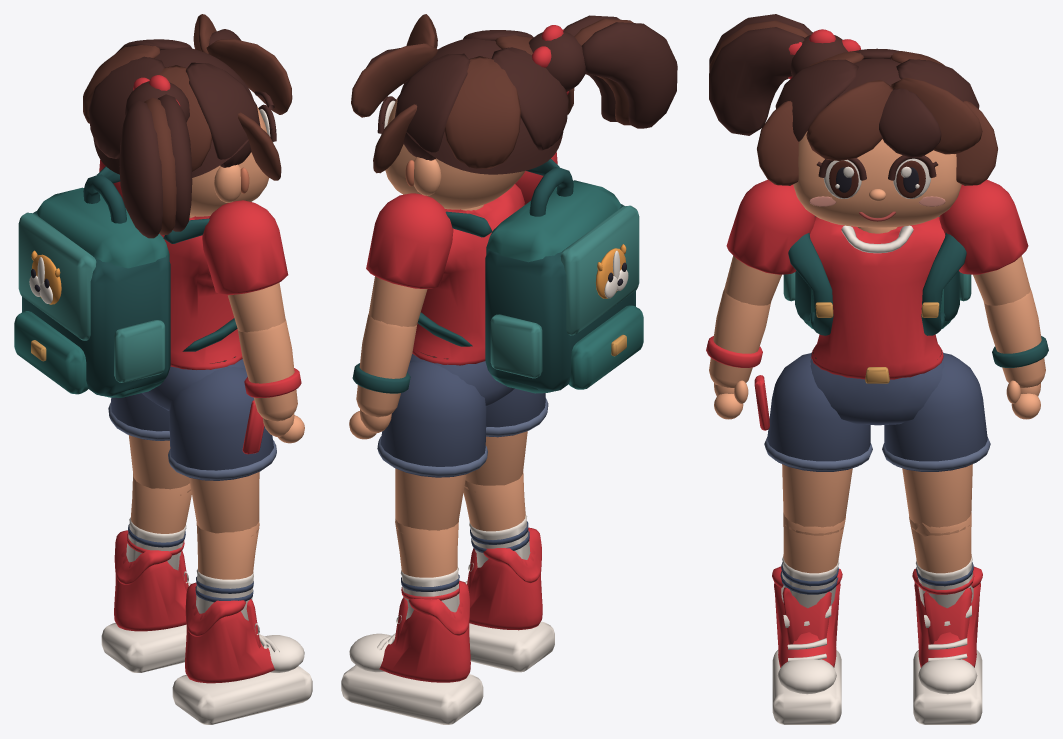
3 views of the same model, side by side, from view 1: azimuth 30°, elevation 25°; view 2: azimuth 150°, elevation 25°; view 3: azimuth 270°, elevation 25° (orthographic). The views are drawn at different scales.
Visible parts, largest first — view 1: head.pal_hairChestnut, head.pal_hairWarm, backpackSocket.pal_tealDark, backpackSocket.pal_backpackTeal, backpackSocket.pal_tealLight, legR.pal_denim, torso.pal_survivorRed, footR.pal_picketWhite, armR.pal_survivorRed, footR.pal_survivorRed, footL.pal_survivorRed, foreArmR.pal_skinWarm (+20 smaller); view 2: head.pal_hairChestnut, head.pal_hairWarm, backpackSocket.pal_tealDark, backpackSocket.pal_backpackTeal, backpackSocket.pal_tealLight, legL.pal_denim, torso.pal_survivorRed, armL.pal_survivorRed, footL.pal_picketWhite, footL.pal_survivorRed, footR.pal_survivorRed, head.pal_skinWarm (+21 smaller); view 3: head.pal_hairChestnut, torso.pal_survivorRed, head.pal_hairWarm, head.pal_skinWarm, legL.pal_denim, legR.pal_denim, armR.pal_survivorRed, armL.pal_survivorRed, footL.pal_picketWhite, footR.pal_picketWhite, hip.pal_denim, torso.pal_tealDark (+28 smaller).
Boxes of the visible parts, x1=… form: head.pal_hairChestnut: x1=88, y1=29, x2=276, y2=238; head.pal_hairWarm: x1=83, y1=14, x2=292, y2=234; backpackSocket.pal_tealDark: x1=22, y1=174, x2=170, y2=396; backpackSocket.pal_backpackTeal: x1=14, y1=187, x2=169, y2=397; backpackSocket.pal_tealLight: x1=18, y1=212, x2=165, y2=382; legR.pal_denim: x1=169, y1=366, x2=273, y2=480; torso.pal_survivorRed: x1=159, y1=216, x2=242, y2=369; footR.pal_picketWhite: x1=172, y1=623, x2=312, y2=724; armR.pal_survivorRed: x1=202, y1=200, x2=288, y2=295; footR.pal_survivorRed: x1=185, y1=582, x2=274, y2=683; footL.pal_survivorRed: x1=114, y1=530, x2=188, y2=631; foreArmR.pal_skinWarm: x1=238, y1=319, x2=297, y2=421; head.pal_hairChestnut: x1=366, y1=15, x2=677, y2=174; head.pal_hairWarm: x1=351, y1=14, x2=633, y2=173; backpackSocket.pal_tealDark: x1=485, y1=167, x2=635, y2=391; backpackSocket.pal_backpackTeal: x1=486, y1=180, x2=643, y2=393; backpackSocket.pal_tealLight: x1=490, y1=205, x2=639, y2=378; legL.pal_denim: x1=380, y1=361, x2=486, y2=477; torso.pal_survivorRed: x1=412, y1=184, x2=524, y2=365; armL.pal_survivorRed: x1=366, y1=193, x2=453, y2=288; footL.pal_picketWhite: x1=341, y1=615, x2=483, y2=724; footL.pal_survivorRed: x1=379, y1=580, x2=470, y2=682; footR.pal_survivorRed: x1=467, y1=527, x2=542, y2=630; head.pal_skinWarm: x1=385, y1=97, x2=525, y2=210; head.pal_hairChestnut: x1=709, y1=14, x2=979, y2=180; torso.pal_survivorRed: x1=810, y1=216, x2=945, y2=379; head.pal_hairWarm: x1=709, y1=20, x2=997, y2=185; head.pal_skinWarm: x1=793, y1=131, x2=961, y2=233; legL.pal_denim: x1=884, y1=353, x2=987, y2=471; legR.pal_denim: x1=767, y1=353, x2=870, y2=471; armR.pal_survivorRed: x1=726, y1=179, x2=815, y2=274; armL.pal_survivorRed: x1=939, y1=179, x2=1028, y2=274; footL.pal_picketWhite: x1=913, y1=605, x2=982, y2=724; footR.pal_picketWhite: x1=772, y1=605, x2=841, y2=724; hip.pal_denim: x1=810, y1=352, x2=944, y2=425; torso.pal_tealDark: x1=788, y1=232, x2=966, y2=335.
Size of the model in its own units: 0.4672 by 1.25 by 0.6105.
